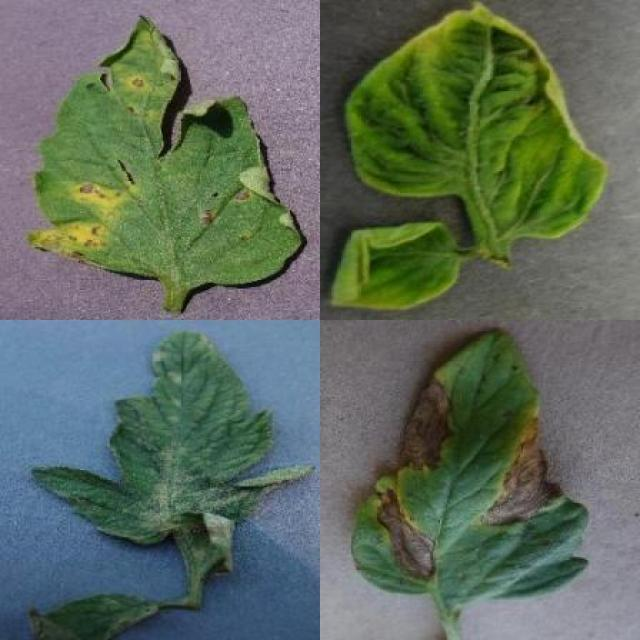Early Blight: (350, 328, 589, 602)
Leaf Mold: (34, 328, 316, 573)
Septoria: (26, 12, 305, 289)
Yellow Leaf Curl Virus: (342, 3, 611, 236), (330, 222, 460, 307)
